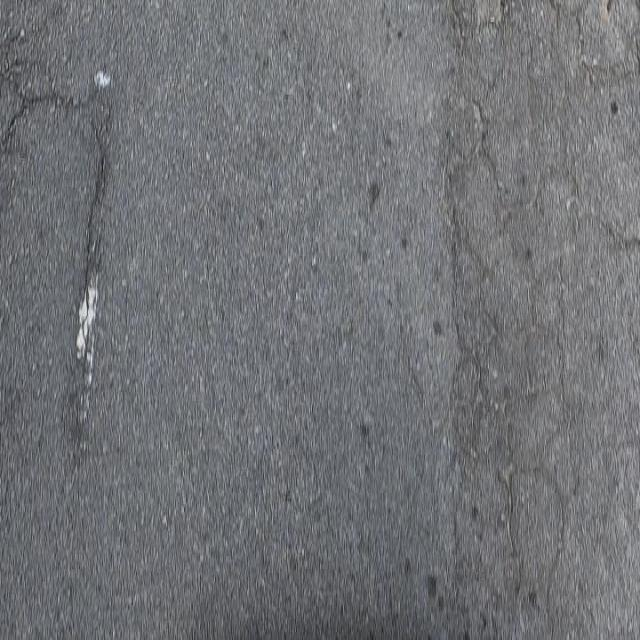cracks: (421, 1, 639, 640)
potholes: (11, 58, 166, 492)
